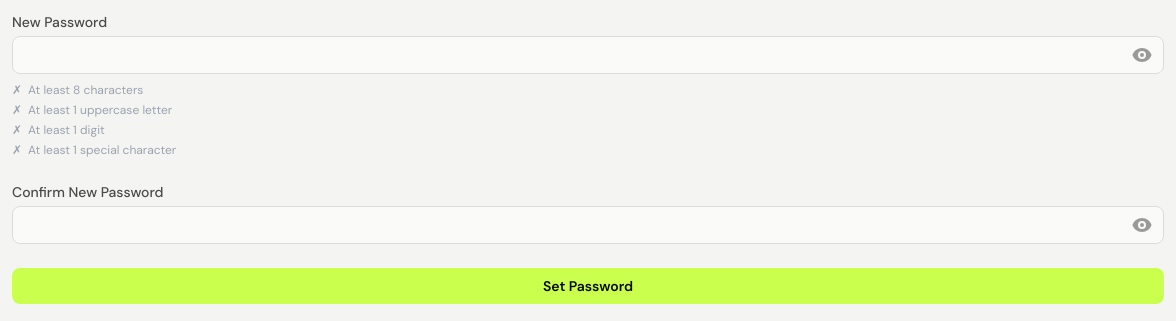
Test: SetupAccountForm › successful submission (200) › shows success message and login link
In the password field labelled "New Password": (588, 55) x1=12 y1=36 x2=1164 y2=74, type "SecurePass1!"
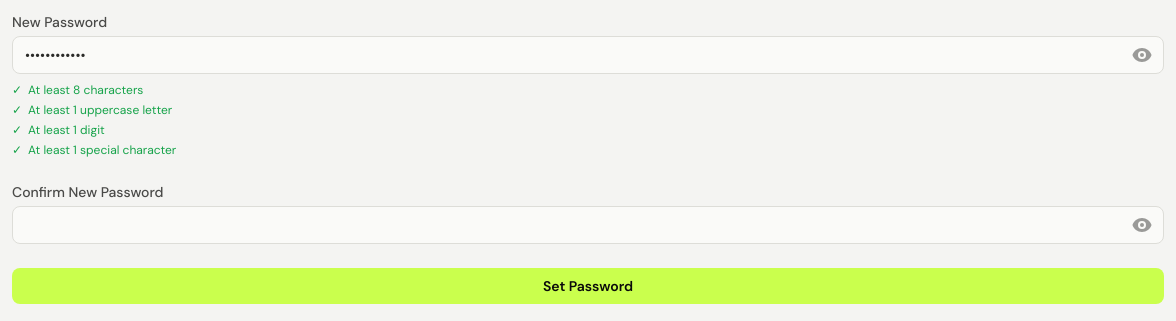
In the password field labelled "Confirm New Password": (588, 225) x1=12 y1=206 x2=1164 y2=244, type "SecurePass1!"
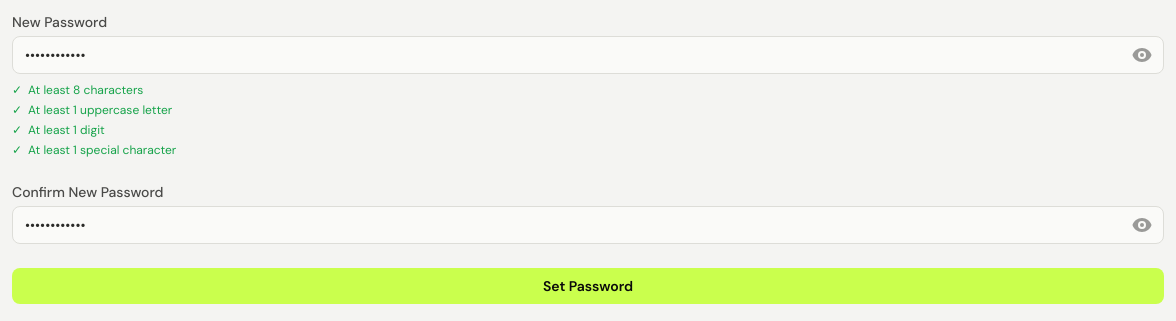
Click the button "Set Password": click(588, 286) x1=12 y1=268 x2=1164 y2=304
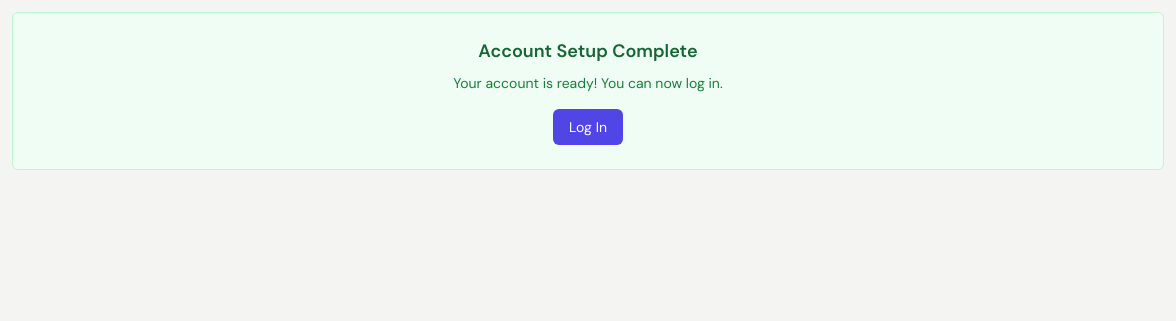
expect the text "Your account is ready! You can now log in." is shown: met, box x1=453 y1=74 x2=723 y2=92
expect the link "Log In" is shown: met, box x1=553 y1=109 x2=623 y2=145
